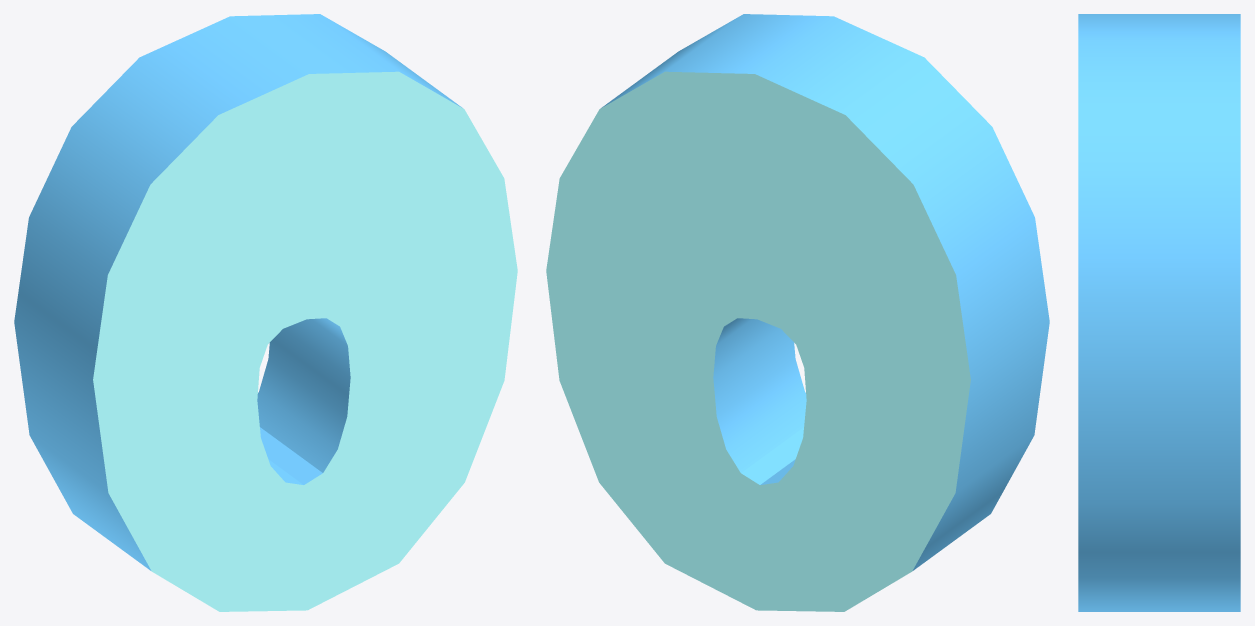
The picture shows the model from 3 angles, left to right: view 1: azimuth 30°, elevation 25°; view 2: azimuth 150°, elevation 25°; view 3: azimuth 270°, elevation 25°; orthographic projection. The views are drawn at different scales.
Parts seen in each view (by area): view 1: 0; view 2: 0; view 3: 0.
Part boxes in pixels (<box>): 0: <box>14,14,517,611</box>; 0: <box>546,14,1049,611</box>; 0: <box>1078,14,1240,611</box>.
Size of what is drawn, in the model's own units: 0.4975 by 0.6 by 0.16.
